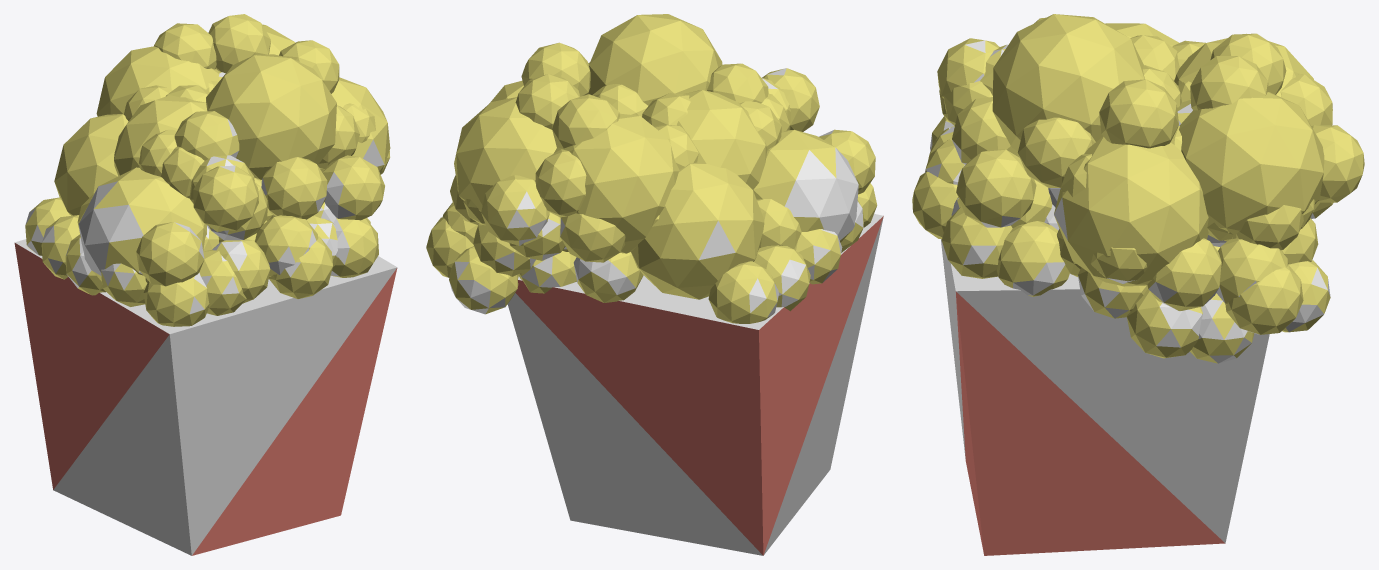
Rendered from popCorn.fbx.
3 views of the same model, side by side, from view 1: azimuth 30°, elevation 25°; view 2: azimuth 150°, elevation 25°; view 3: azimuth 270°, elevation 25° (orthographic). The views are drawn at different scales.
Parts seen in each view (by area): view 1: model:Mesh; view 2: model:Mesh; view 3: model:Mesh.
Part boxes in pixels (x1,y1,x2,y2): model:Mesh: (14, 14, 397, 555); model:Mesh: (426, 14, 883, 555); model:Mesh: (912, 14, 1364, 555).
Bounding box in the file's own units: 18.9 × 24.11 × 19.24.
